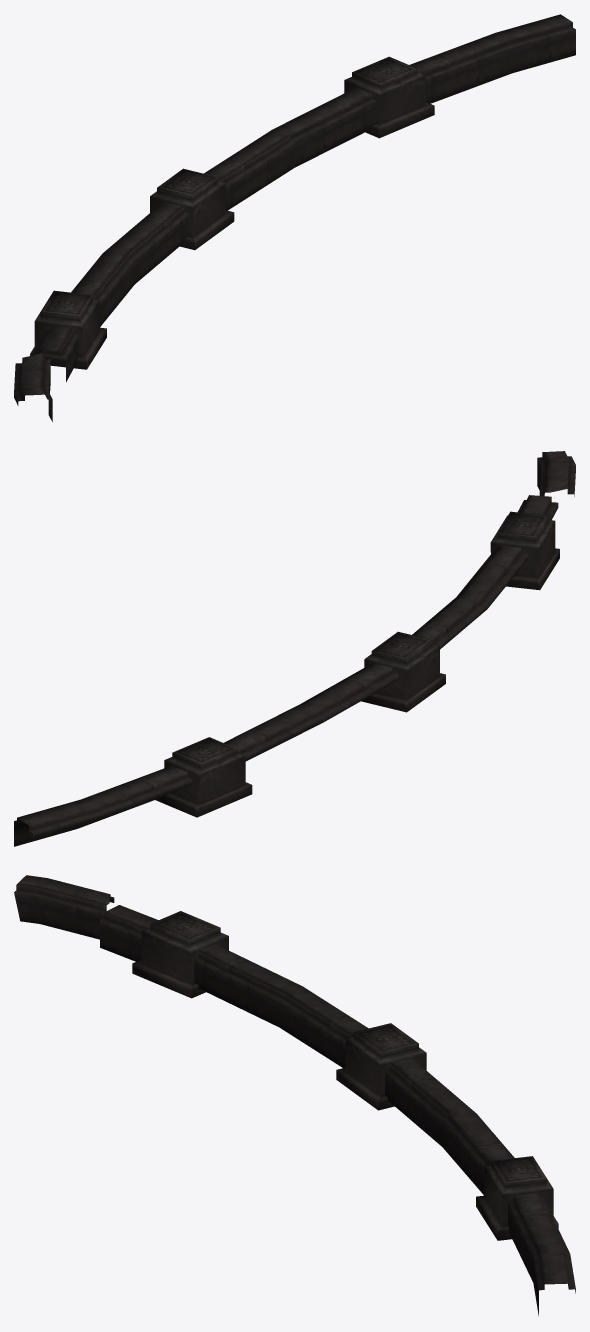
Rendered from S2_Build_XSC105_1.FBX.
The picture shows the model from 3 angles, top to bottom: view 1: azimuth 30°, elevation 25°; view 2: azimuth 210°, elevation 25°; view 3: azimuth 270°, elevation 25°; orthographic projection. The views are drawn at different scales.
Visible parts, largest first — view 1: S2_Build_XSC105_1; view 2: S2_Build_XSC105_1; view 3: S2_Build_XSC105_1.
Part boxes in pixels (x1,y1,x2,y2): S2_Build_XSC105_1: (14, 14, 575, 421); S2_Build_XSC105_1: (14, 451, 575, 846); S2_Build_XSC105_1: (14, 875, 575, 1316).
Bounding box in the file's own units: 539 × 32.46 × 308.
